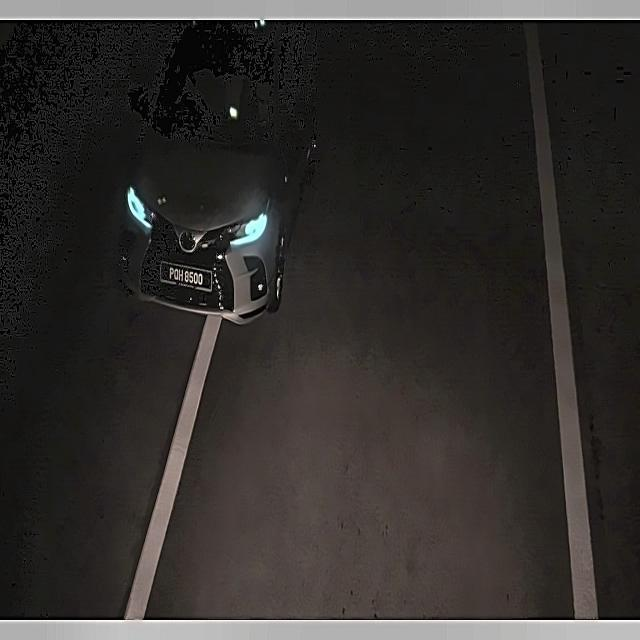car: (158, 256, 218, 296)
